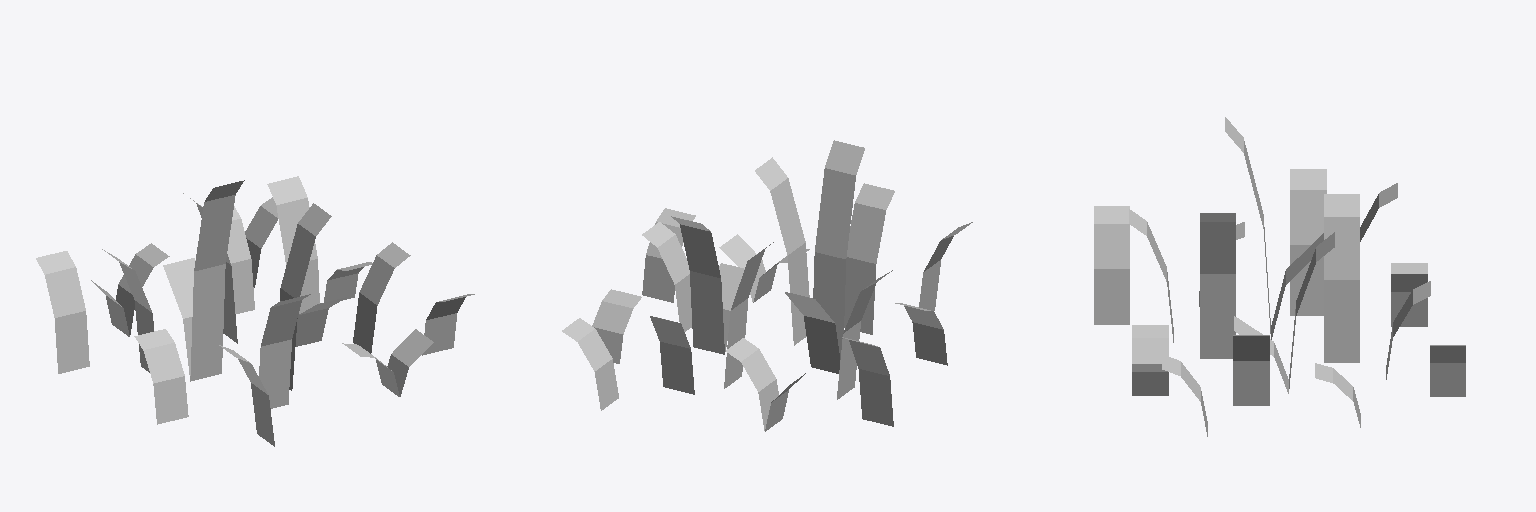
The model's file is grass_large.obj.
3 views of the same model, side by side, from view 1: azimuth 30°, elevation 25°; view 2: azimuth 150°, elevation 25°; view 3: azimuth 270°, elevation 25° (orthographic).
Visible parts, largest first — view 1: grass_large; view 2: grass_large; view 3: grass_large.
Boxes of the visible parts, x1,y1,x2,y2 form: grass_large: [36, 176, 474, 446]; grass_large: [562, 140, 972, 431]; grass_large: [1094, 117, 1465, 436].
Bounding box in the file's own units: 0.409 × 0.254 × 0.4079.